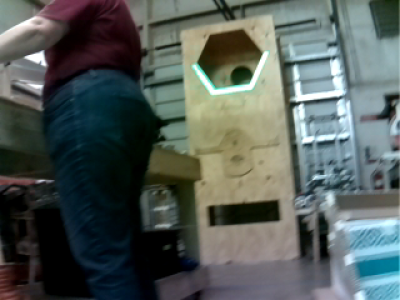target: (191, 51, 271, 96)
